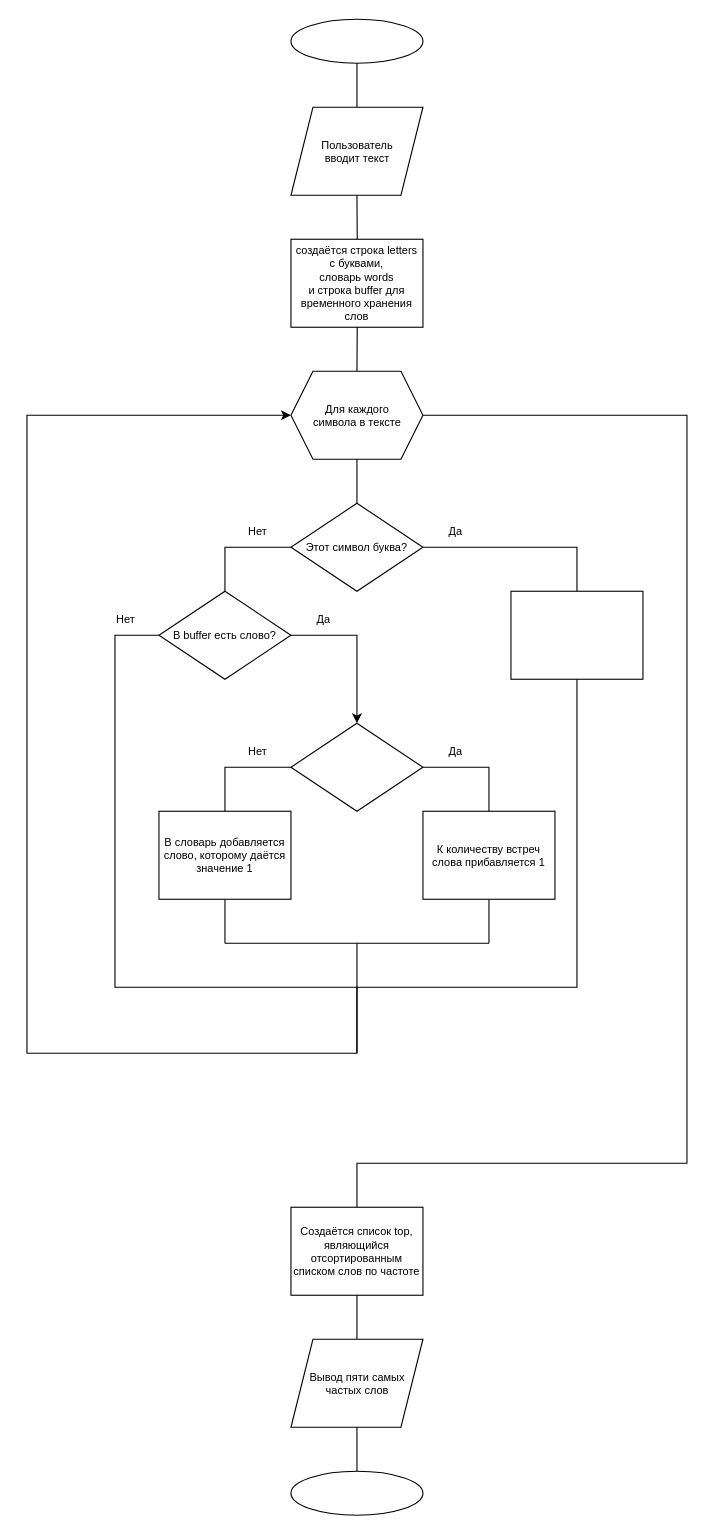
The diagram is 707 pixels wide and 1535 high, and some of its shapes have lost their labels. Each missing label, with the centre of its shape:
добавляем символ в buffer: [576,634]
Конец: [356,1492]
Начало: [356,40]
Слово Существует в словаре?: [356,766]
